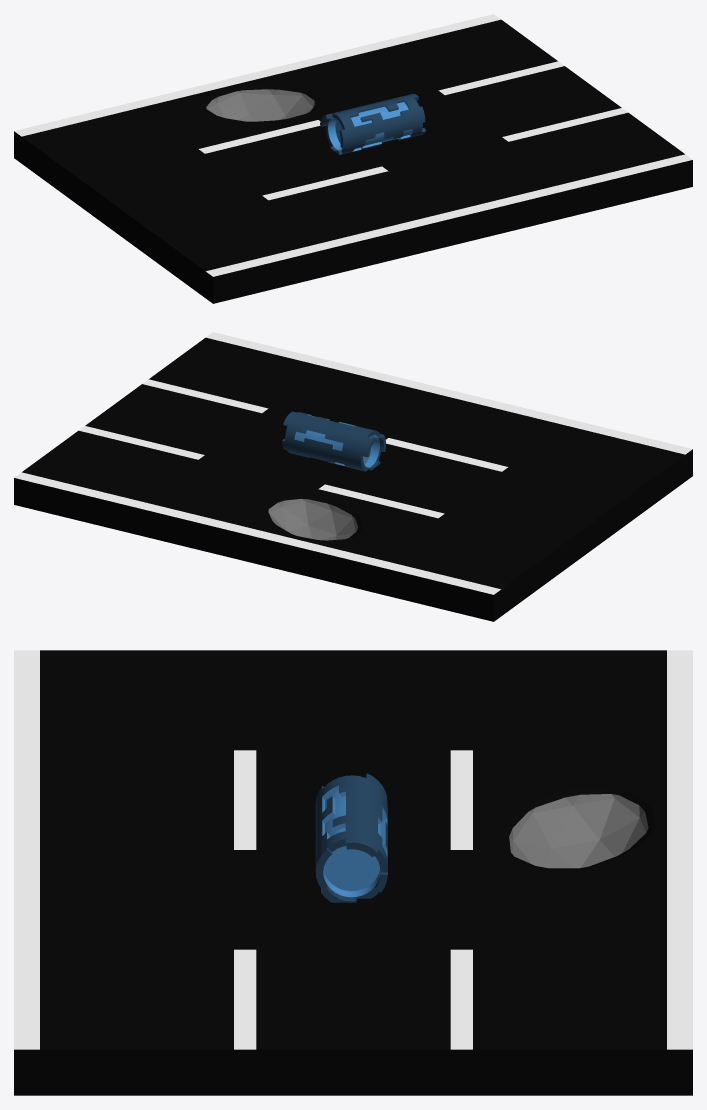
File: Route Troue V3 Tronc V2.fbx
3 views of the same model, one above another, from view 1: azimuth 30°, elevation 25°; view 2: azimuth 150°, elevation 25°; view 3: azimuth 270°, elevation 25° (orthographic). The views are drawn at different scales.
Visible parts, largest first — view 1: Route Troue V3 Tronc V2; view 2: Route Troue V3 Tronc V2; view 3: Route Troue V3 Tronc V2.
Boxes of the visible parts, box(x1,y1,x2,y2) form: Route Troue V3 Tronc V2: box(14, 14, 692, 303); Route Troue V3 Tronc V2: box(14, 332, 692, 621); Route Troue V3 Tronc V2: box(14, 650, 692, 1095).
Size of the model in its own units: 501 by 62.07 by 360.
